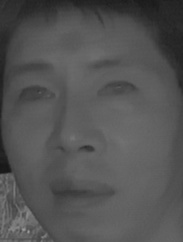eye: (11, 84, 58, 108), (97, 78, 140, 102)
mouth: (45, 172, 119, 215)
